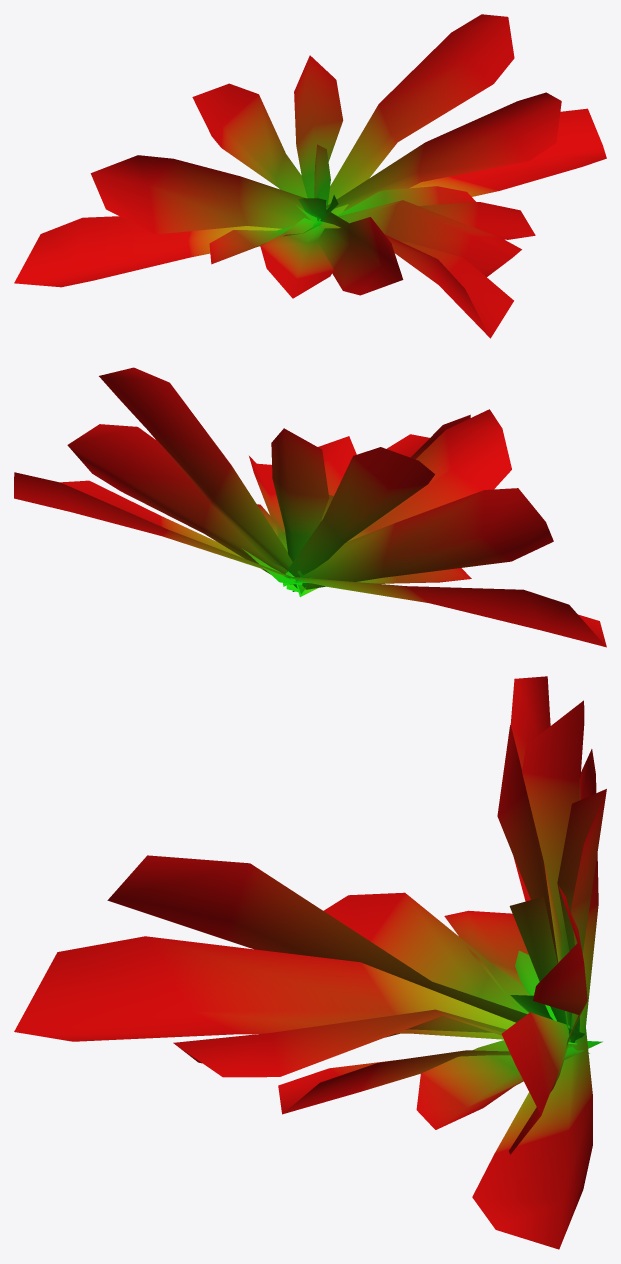
File: Var7_LOD2.fbx
The picture shows the model from 3 angles, top to bottom: view 1: azimuth 30°, elevation 25°; view 2: azimuth 150°, elevation 25°; view 3: azimuth 270°, elevation 25°; orthographic projection. The views are drawn at different scales.
Parts seen in each view (by area): view 1: _xqg2_Var7_LOD2; view 2: _xqg2_Var7_LOD2; view 3: _xqg2_Var7_LOD2.
Part boxes in pixels (box(x1,y1,x2,y2)): _xqg2_Var7_LOD2: box(14, 14, 606, 338); _xqg2_Var7_LOD2: box(14, 367, 606, 647); _xqg2_Var7_LOD2: box(14, 676, 606, 1249).
Bounding box in the file's own units: 40.02 × 11.84 × 21.61.
